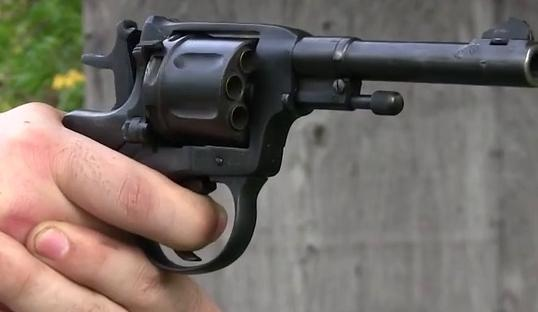gun: (1, 1, 538, 312)
